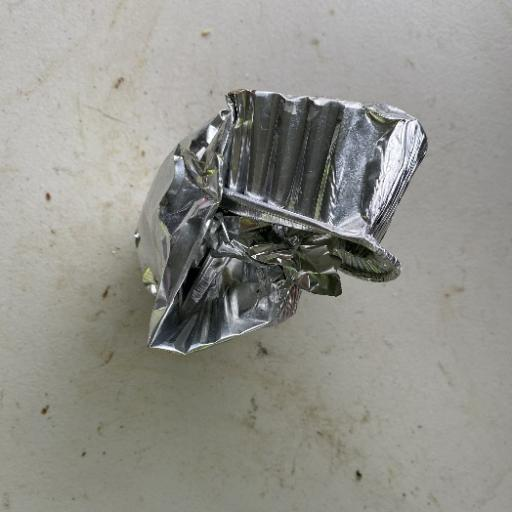Metal: (132, 85, 429, 356)
